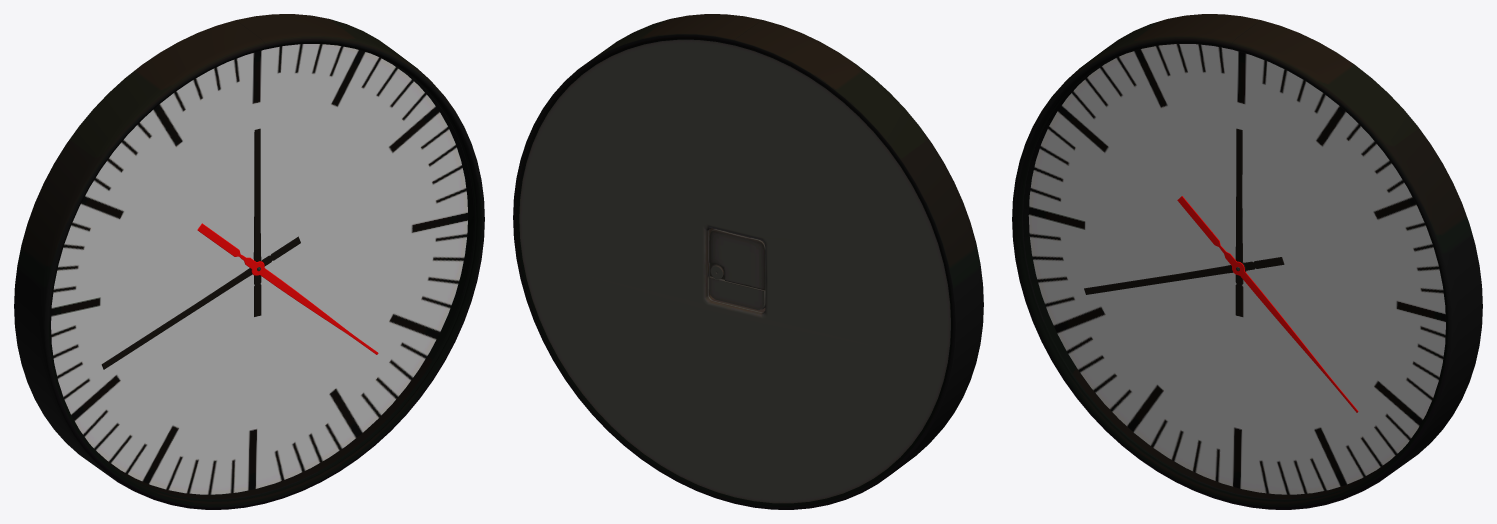
File: oto_relogio.fbx
The picture shows the model from 3 angles, left to right: view 1: azimuth 30°, elevation 25°; view 2: azimuth 150°, elevation 25°; view 3: azimuth 330°, elevation 25°; orthographic projection.
Visible parts, largest first — view 1: node_id29; view 2: node_id29; view 3: node_id29.
Boxes of the visible parts, <box> form: node_id29: <box>14,14,484,509</box>; node_id29: <box>513,14,983,509</box>; node_id29: <box>1012,14,1482,509</box>.
Size of the model in its own units: 0.512 by 0.512 by 0.0602.
1 material, 1 textured.
